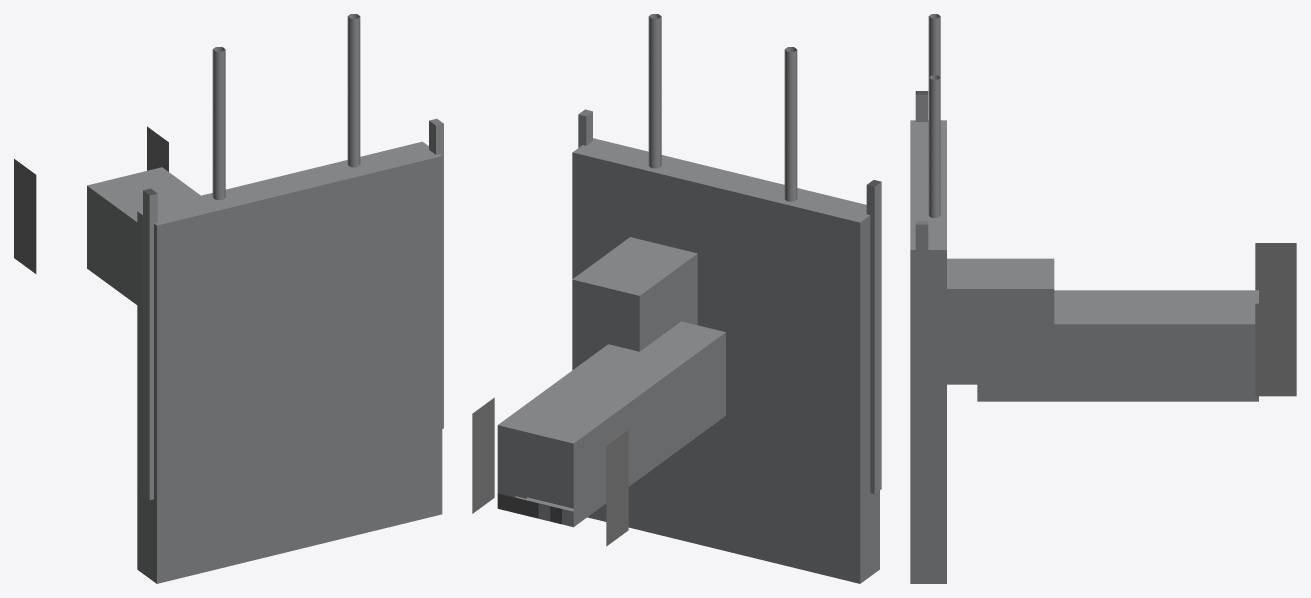
The picture shows the model from 3 angles, left to right: view 1: azimuth 30°, elevation 25°; view 2: azimuth 150°, elevation 25°; view 3: azimuth 270°, elevation 25°; orthographic projection. The views are drawn at different scales.
Bounding box in the file's own units: 0.742 × 1.22 × 0.9055.
